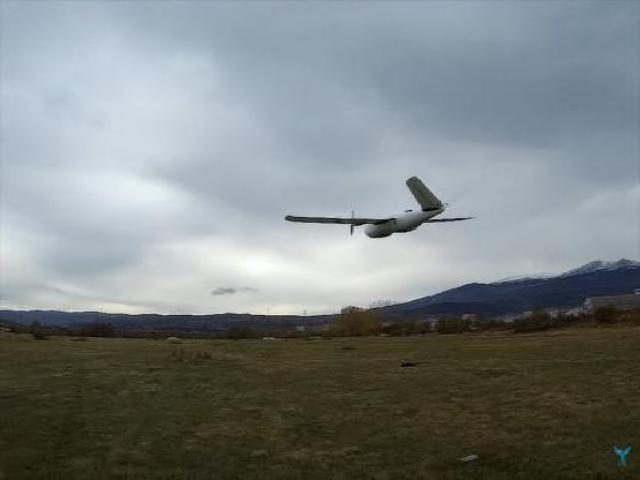uav: (276, 169, 484, 263)
